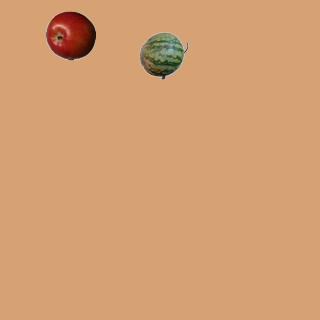Apple Braeburn: (45, 10, 95, 60)
Watermelon: (138, 30, 188, 80)
